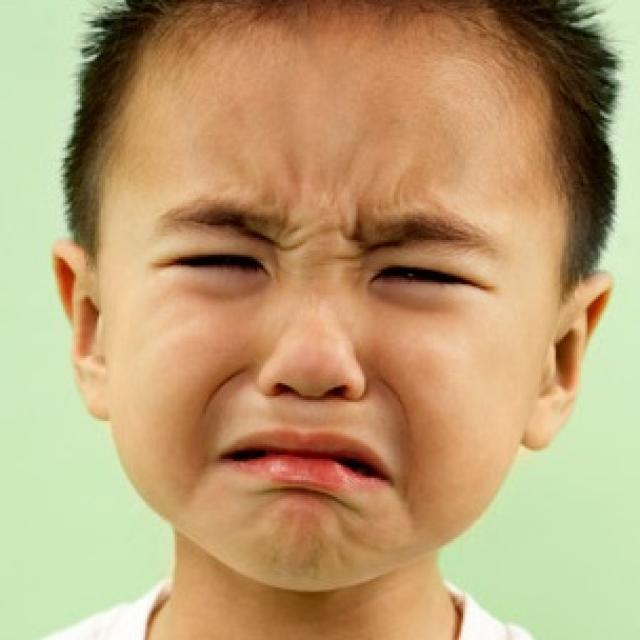Depress: (96, 26, 570, 591)
